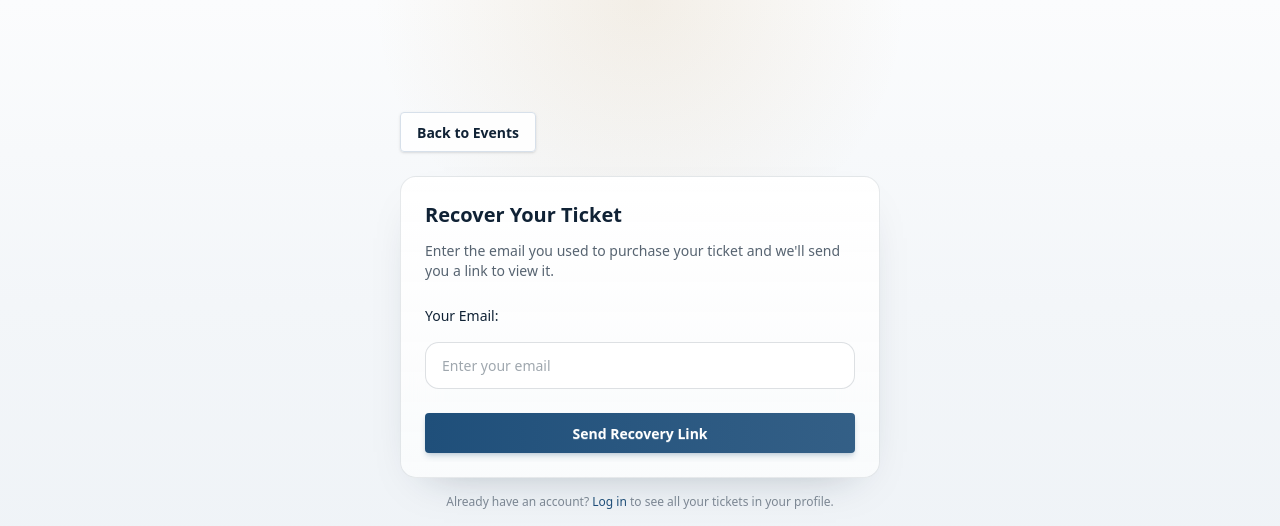
Test: TicketRecovery › without a token — request form › submits the email and shows the generic confirmation on success
Type "guest@test.com" into the field labelled "Your Email:" at (640, 366), box [425,342,855,389]
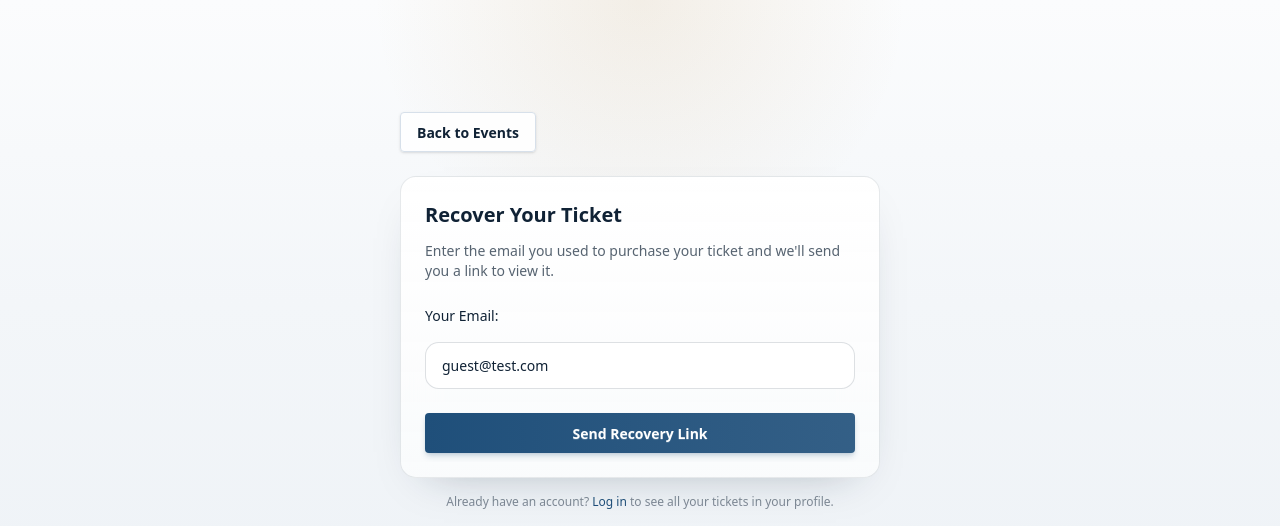
Click the button "Send Recovery Link" at (640, 433), box [425,413,855,453]
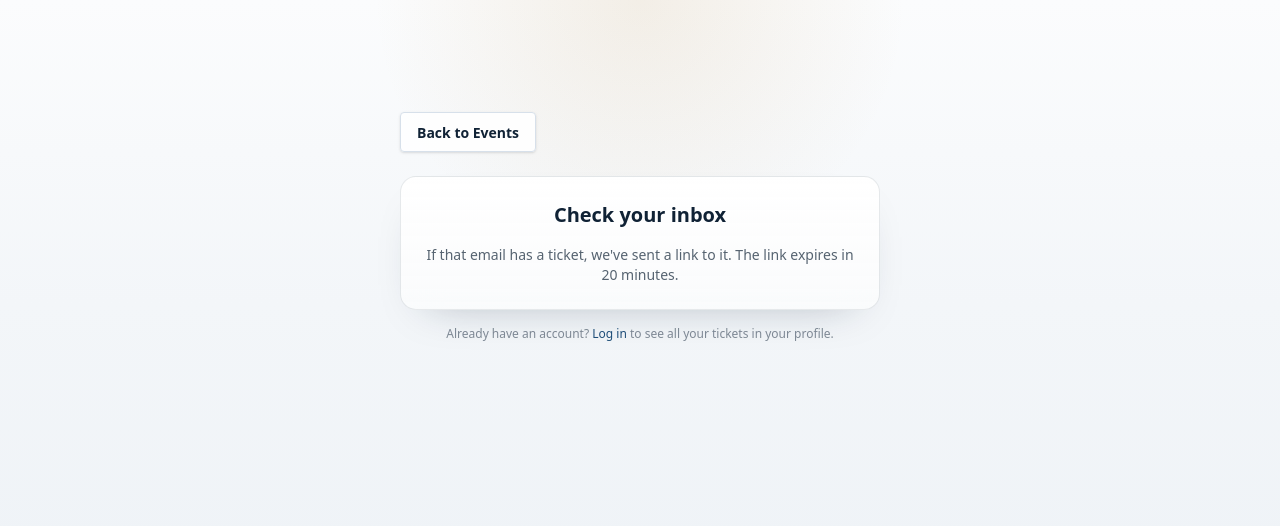
Expected: the heading "Check your inbox" is shown, [554,201,726,228]
